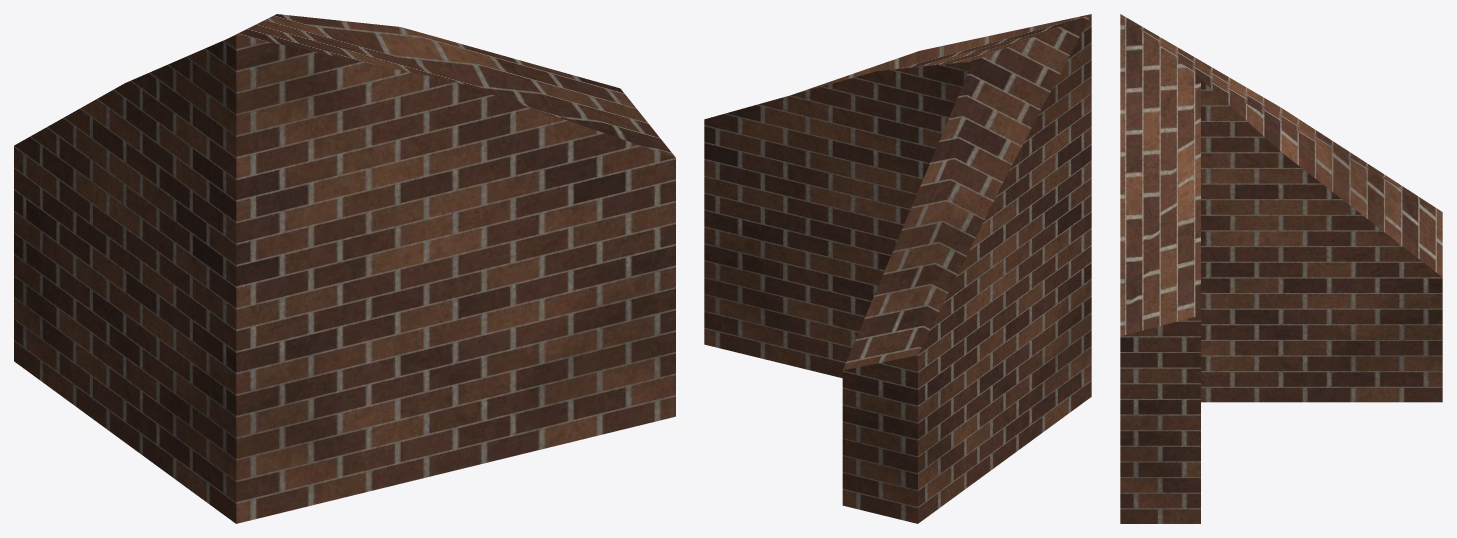
The model's file is debris_nyc_brick_corner.glb.
3 renders of one model, left to right at view 1: azimuth 30°, elevation 25°; view 2: azimuth 150°, elevation 25°; view 3: azimuth 270°, elevation 25°, orthographic. The views are drawn at different scales.
Visible parts, largest first — view 1: debris_nyc_brick_corner; view 2: debris_nyc_brick_corner; view 3: debris_nyc_brick_corner.
Part boxes in pixels (x1,y1,x2,y2): debris_nyc_brick_corner: (14,14,675,523); debris_nyc_brick_corner: (704,14,1091,523); debris_nyc_brick_corner: (1120,14,1442,523).
Bounding box in the file's own units: 1.6 × 1.7 × 1.4.
Materials: 1 (1 with a texture image).
